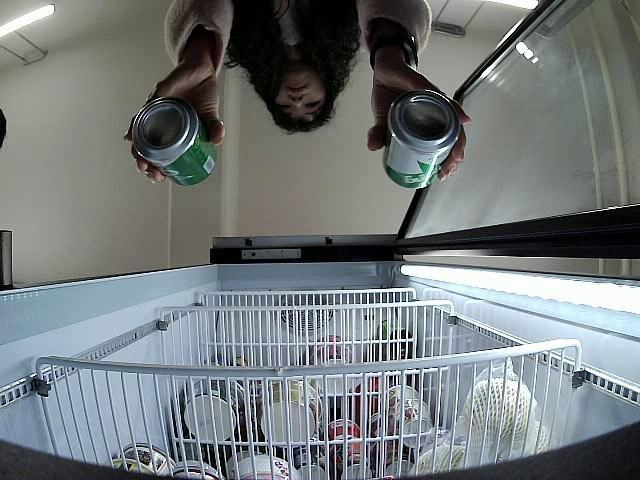12_chilsungCider: (130, 97, 217, 187), (382, 90, 460, 189)
